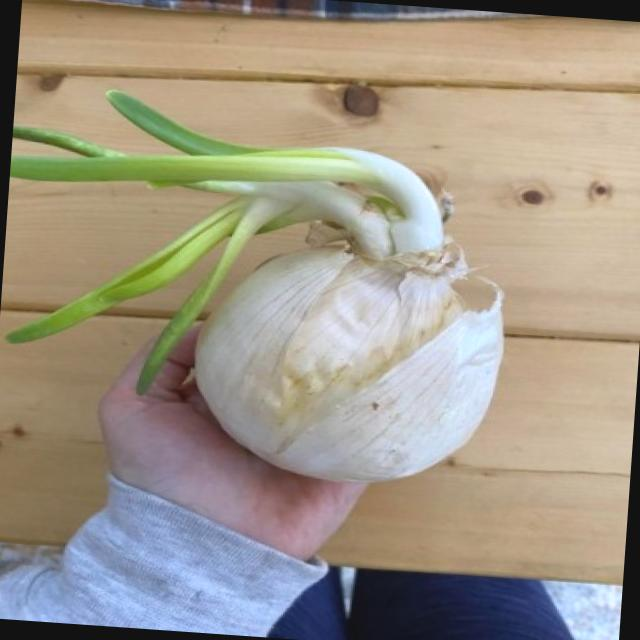onion: (144, 207, 560, 518)
